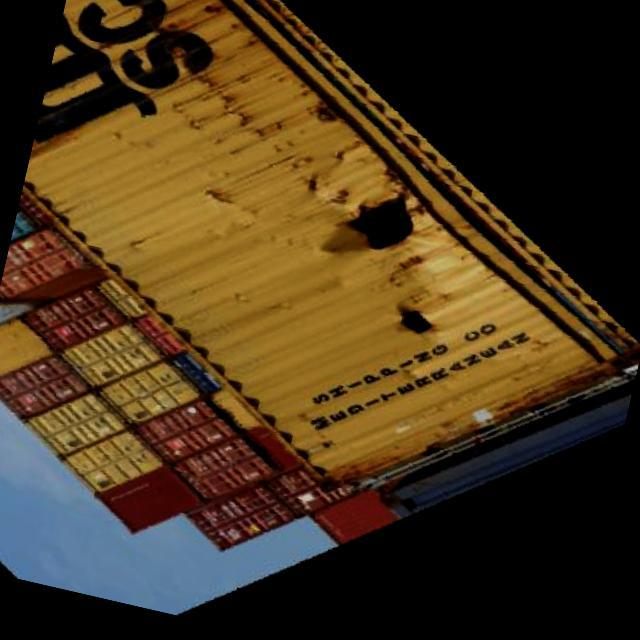hole: (332, 174, 434, 280), (372, 280, 463, 371)
rust: (178, 77, 349, 201)
